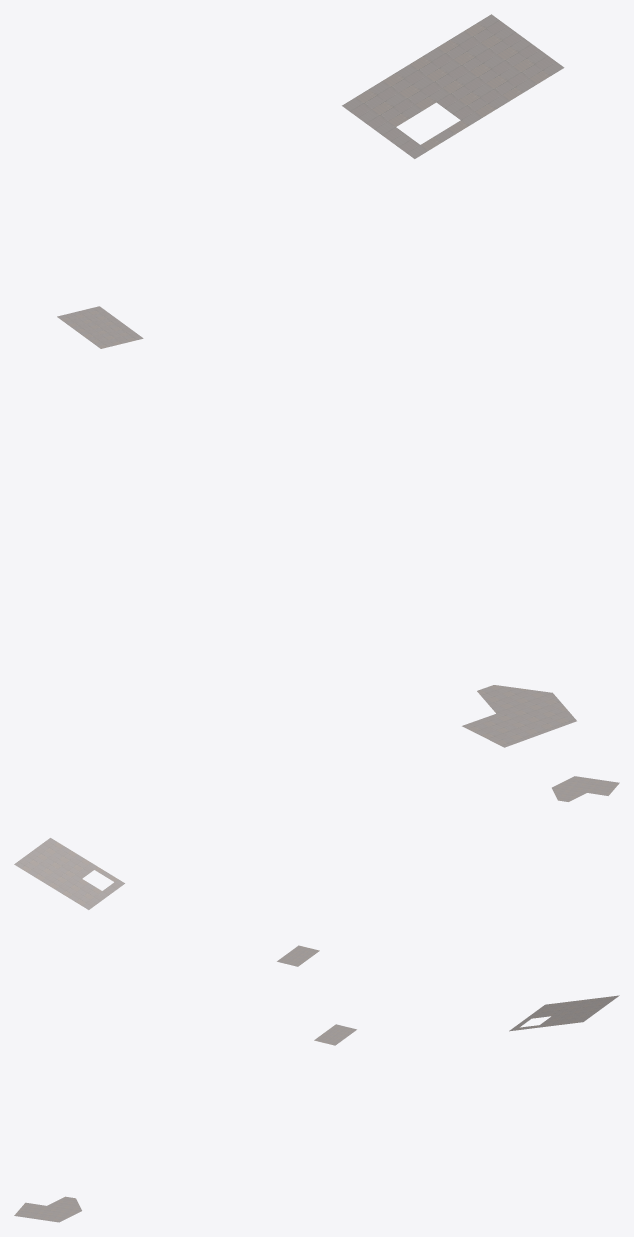
File: kd_stage_135ebf_1_41.glb
3 renders of one model, top to bottom at view 1: azimuth 30°, elevation 25°; view 2: azimuth 150°, elevation 25°; view 3: azimuth 330°, elevation 25°, orthographic. The views are drawn at different scales.
Visible parts, largest first — view 1: kd_stage_135ebf_1_41; view 2: kd_stage_135ebf_1_41; view 3: kd_stage_135ebf_1_41.
Part boxes in pixels (x1,y1,x2,y2): kd_stage_135ebf_1_41: (57,14,576,747); kd_stage_135ebf_1_41: (14,776,619,966); kd_stage_135ebf_1_41: (14,995,619,1222).
Size of the model in its own units: 24.81 by 5.41 by 43.19.
Materials: 1 (1 with a texture image).
